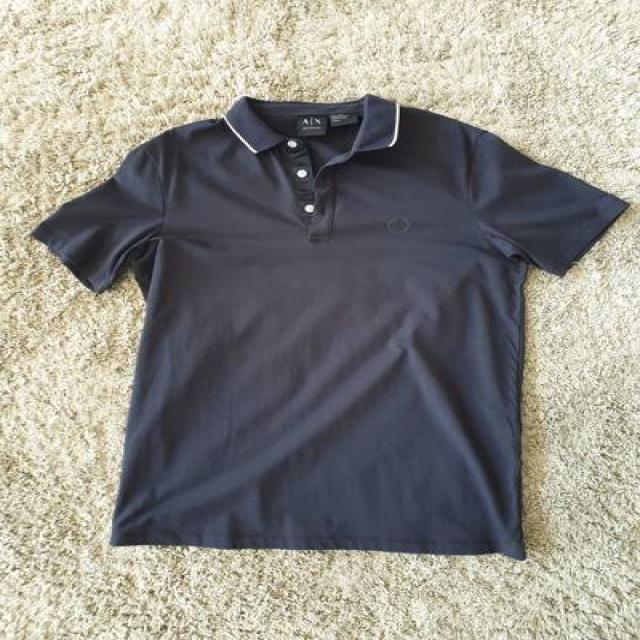Clothes -Biodegradable-: (26, 92, 631, 559)
